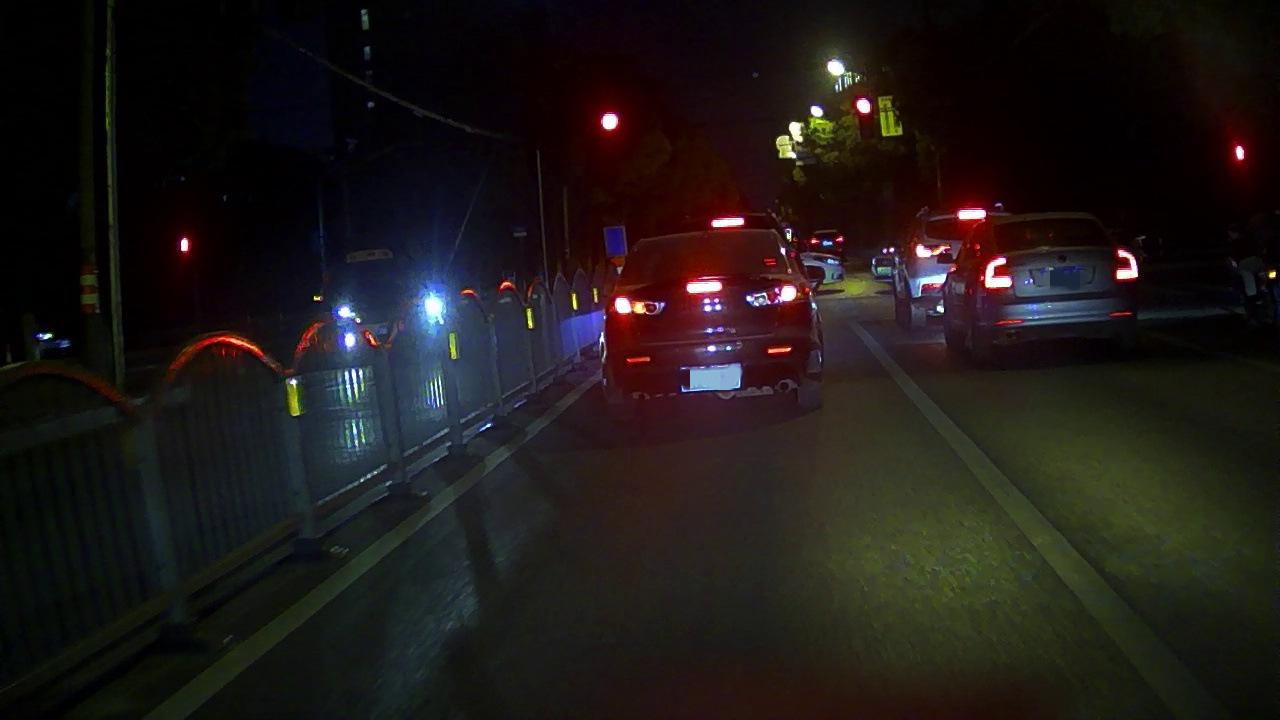traffic_light: (594, 108, 623, 134), (856, 93, 871, 117)
